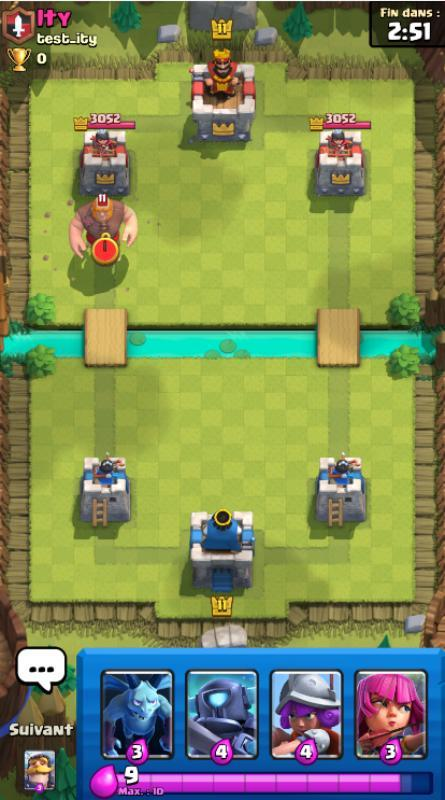geant: (69, 194, 138, 258)
